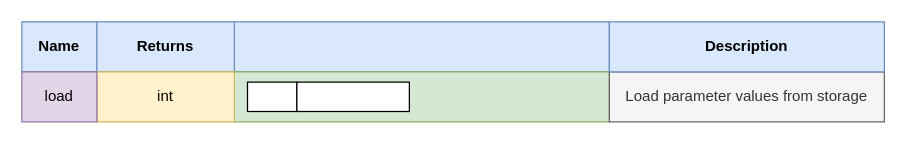
Some shapes in this 906 by 144 pixel diagram are drawn without their labels. The shapes that lost their labels are listed below. From the top down, each one's centre as x and y in pixels, then its label:
At [421,46]: "Parameters".
At [271,96]: "path".
At [352,96]: "Registry Path".
